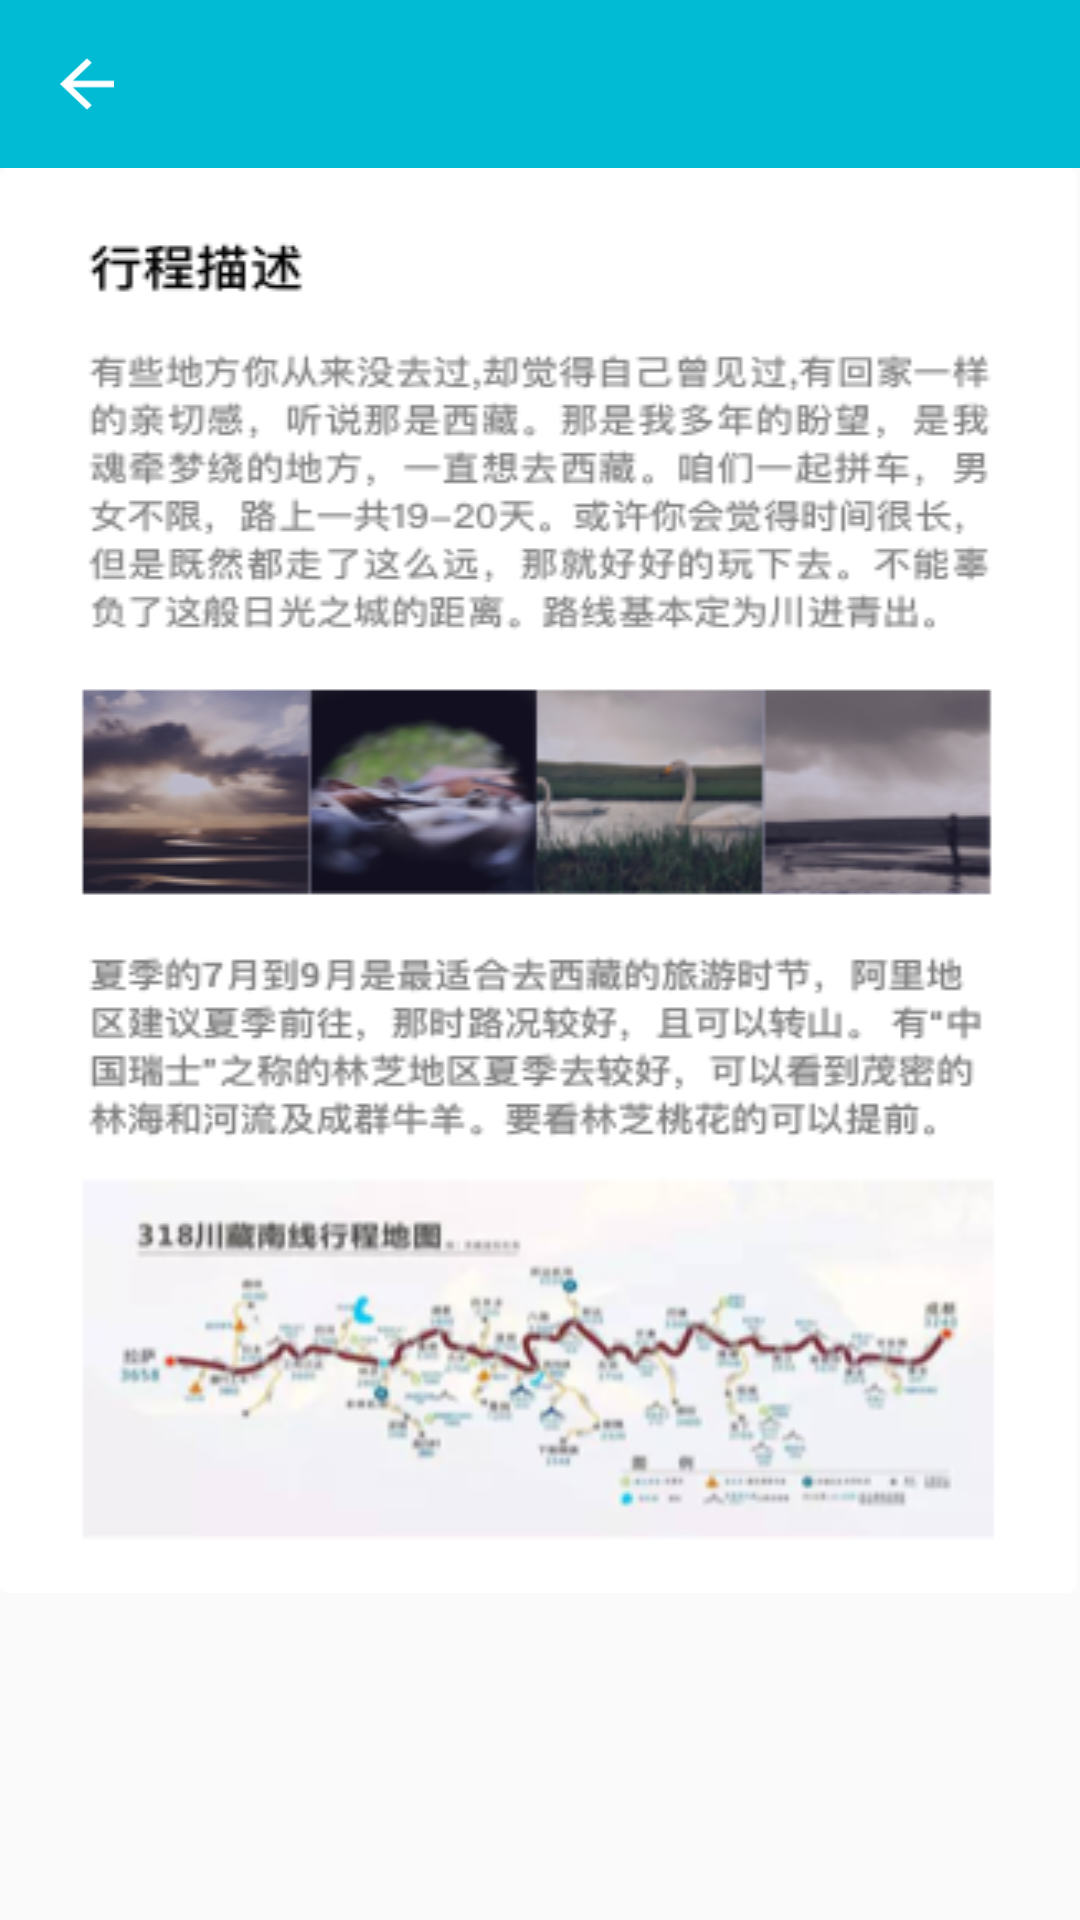

Where icons sit on this 1080×1920 app screen, as box=[x1, y1, x2, y2]:
back: box=[60, 58, 114, 110]
